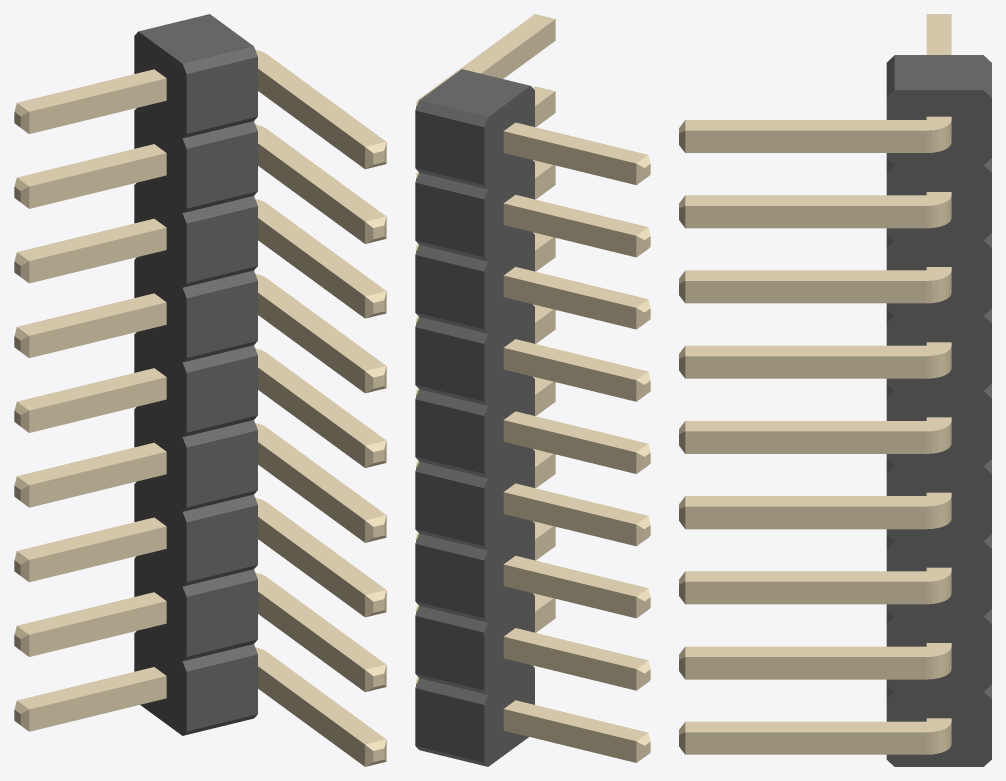
File: PinHeader_1x09_P1.00mm_Horizontal.glb
The picture shows the model from 3 angles, left to right: view 1: azimuth 30°, elevation 25°; view 2: azimuth 150°, elevation 25°; view 3: azimuth 270°, elevation 25°; orthographic projection. The views are drawn at different scales.
Visible parts, largest first — view 1: Shape_IndexedFaceSet.004, Shape_IndexedFaceSet.010, Shape_IndexedFaceSet.052, Shape_IndexedFaceSet.028, Shape_IndexedFaceSet.046, Shape_IndexedFaceSet.016, Shape_IndexedFaceSet.022, Shape_IndexedFaceSet.034, Shape_IndexedFaceSet.040, Shape_IndexedFaceSet.002, Shape_IndexedFaceSet.099, Shape_IndexedFaceSet.124 (+44 smaller); view 2: Shape_IndexedFaceSet.004, Shape_IndexedFaceSet.037, Shape_IndexedFaceSet.055, Shape_IndexedFaceSet.025, Shape_IndexedFaceSet.031, Shape_IndexedFaceSet.013, Shape_IndexedFaceSet.043, Shape_IndexedFaceSet.049, Shape_IndexedFaceSet.019, Shape_IndexedFaceSet.007, Shape_IndexedFaceSet.101, Shape_IndexedFaceSet.097 (+36 smaller); view 3: Shape_IndexedFaceSet.003, Shape_IndexedFaceSet.136, Shape_IndexedFaceSet.152, Shape_IndexedFaceSet.131, Shape_IndexedFaceSet.141, Shape_IndexedFaceSet.146, Shape_IndexedFaceSet.156, Shape_IndexedFaceSet.161, Shape_IndexedFaceSet.166, Shape_IndexedFaceSet.171, Shape_IndexedFaceSet.001, Shape_IndexedFaceSet.078 (+18 smaller).
Boxes of the visible parts, left/top/right/bottom form: Shape_IndexedFaceSet.004: left=134, top=31, right=186, bottom=735; Shape_IndexedFaceSet.010: left=186, top=131, right=257, bottom=208; Shape_IndexedFaceSet.052: left=186, top=654, right=257, bottom=731; Shape_IndexedFaceSet.028: left=186, top=355, right=257, bottom=432; Shape_IndexedFaceSet.046: left=186, top=579, right=257, bottom=656; Shape_IndexedFaceSet.016: left=186, top=206, right=257, bottom=283; Shape_IndexedFaceSet.022: left=186, top=281, right=257, bottom=357; Shape_IndexedFaceSet.034: left=186, top=430, right=257, bottom=507; Shape_IndexedFaceSet.040: left=186, top=505, right=257, bottom=581; Shape_IndexedFaceSet.002: left=186, top=57, right=257, bottom=133; Shape_IndexedFaceSet.099: left=29, top=451, right=166, bottom=507; Shape_IndexedFaceSet.124: left=29, top=78, right=166, bottom=133; Shape_IndexedFaceSet.004: left=484, top=86, right=534, bottom=766; Shape_IndexedFaceSet.037: left=415, top=471, right=484, bottom=545; Shape_IndexedFaceSet.055: left=415, top=688, right=484, bottom=762; Shape_IndexedFaceSet.025: left=415, top=327, right=484, bottom=401; Shape_IndexedFaceSet.031: left=415, top=399, right=484, bottom=473; Shape_IndexedFaceSet.013: left=415, top=182, right=484, bottom=256; Shape_IndexedFaceSet.043: left=415, top=544, right=484, bottom=618; Shape_IndexedFaceSet.049: left=415, top=616, right=484, bottom=690; Shape_IndexedFaceSet.019: left=415, top=255, right=484, bottom=329; Shape_IndexedFaceSet.007: left=415, top=110, right=484, bottom=184; Shape_IndexedFaceSet.101: left=503, top=492, right=636, bottom=546; Shape_IndexedFaceSet.097: left=503, top=420, right=636, bottom=473; Shape_IndexedFaceSet.003: left=886, top=90, right=991, bottom=766; Shape_IndexedFaceSet.136: left=685, top=506, right=926, bottom=529; Shape_IndexedFaceSet.152: left=685, top=581, right=926, bottom=604; Shape_IndexedFaceSet.131: left=685, top=431, right=926, bottom=453; Shape_IndexedFaceSet.141: left=685, top=356, right=926, bottom=378; Shape_IndexedFaceSet.146: left=685, top=657, right=926, bottom=679; Shape_IndexedFaceSet.156: left=685, top=732, right=926, bottom=754; Shape_IndexedFaceSet.161: left=685, top=281, right=926, bottom=303; Shape_IndexedFaceSet.166: left=685, top=130, right=926, bottom=152; Shape_IndexedFaceSet.171: left=685, top=206, right=926, bottom=228; Shape_IndexedFaceSet.001: left=894, top=55, right=983, bottom=90; Shape_IndexedFaceSet.078: left=685, top=718, right=951, bottom=732.
Size of the model in its own units: 1.34 by 3.54 by 1.48.
